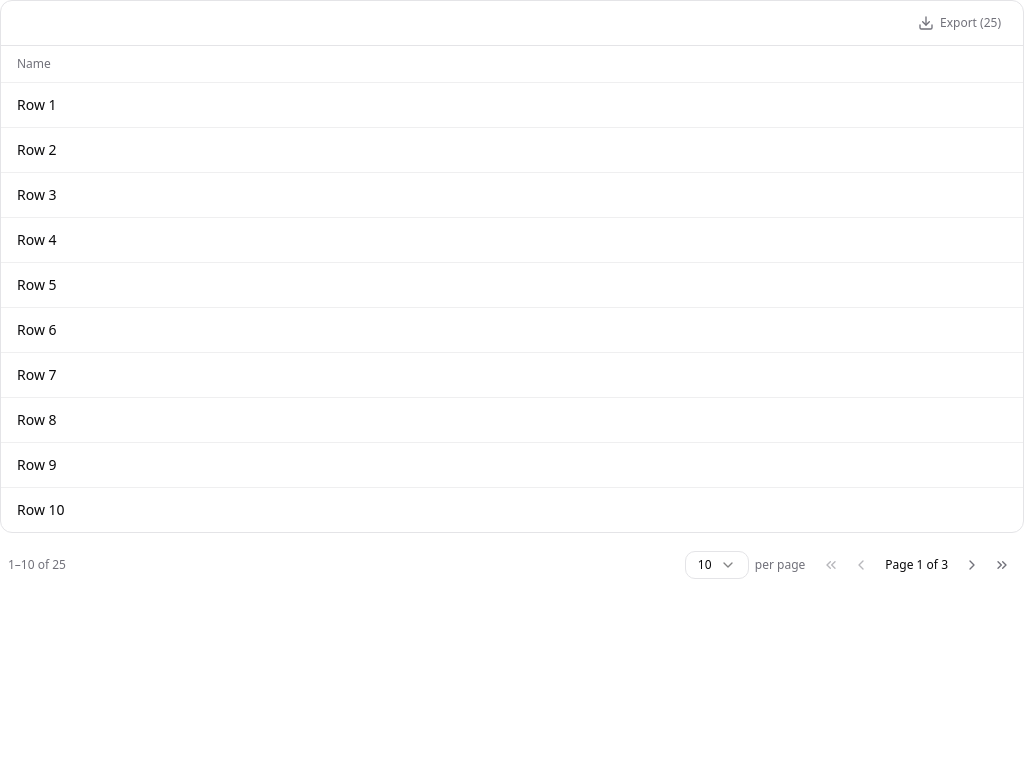
Test case: DataTable — unit › Pagination › clicking Previous goes back to page 1
The width and height of the screenshot is (1024, 768).
Click the button named "next". click: click(972, 564)
box: 958,550 -> 986,578
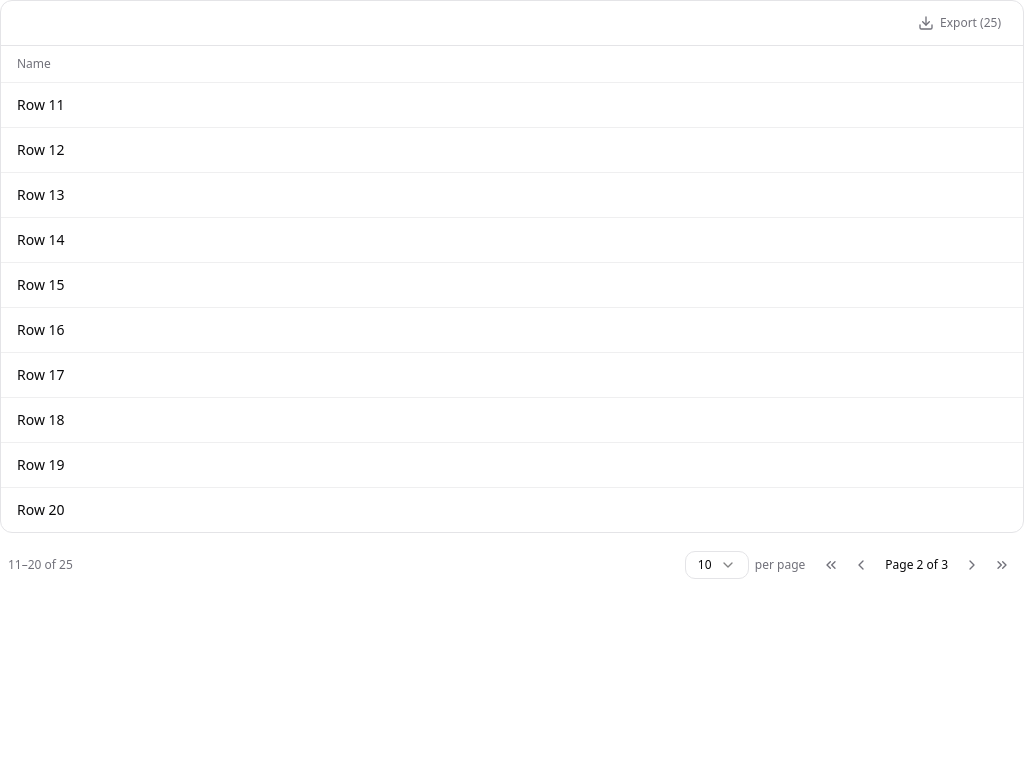
Click the button named "previous". click: click(861, 564)
box: 847,550 -> 875,578
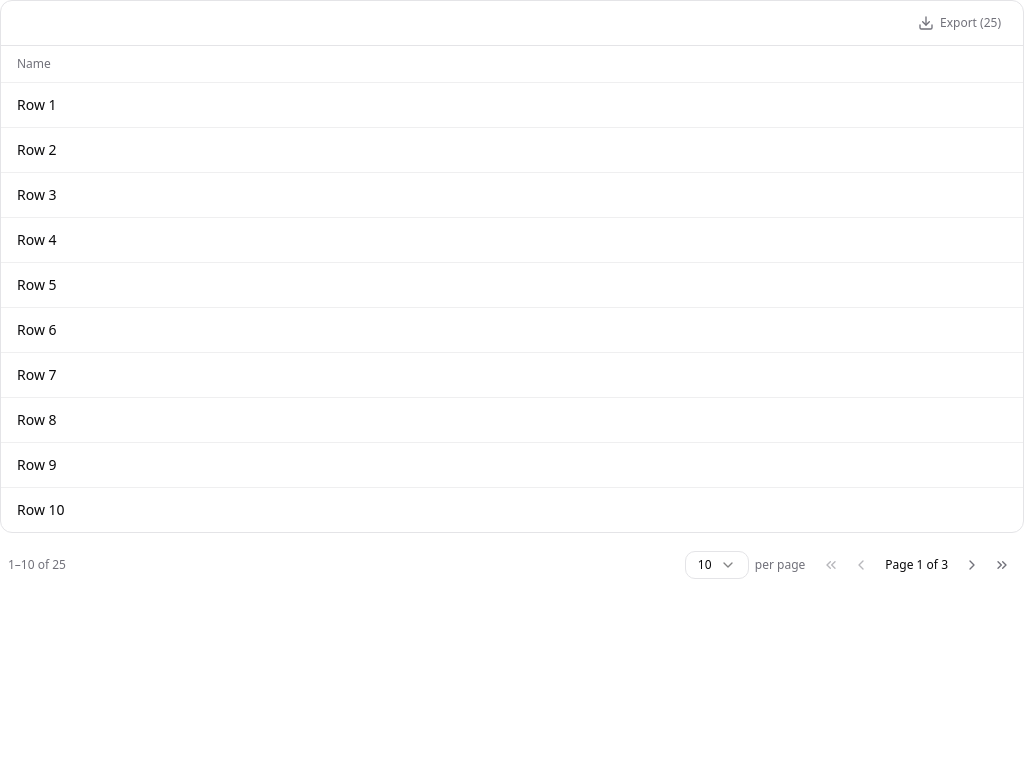
Expected: the text "Page 1 of 3" is shown, 885,556 -> 948,572
